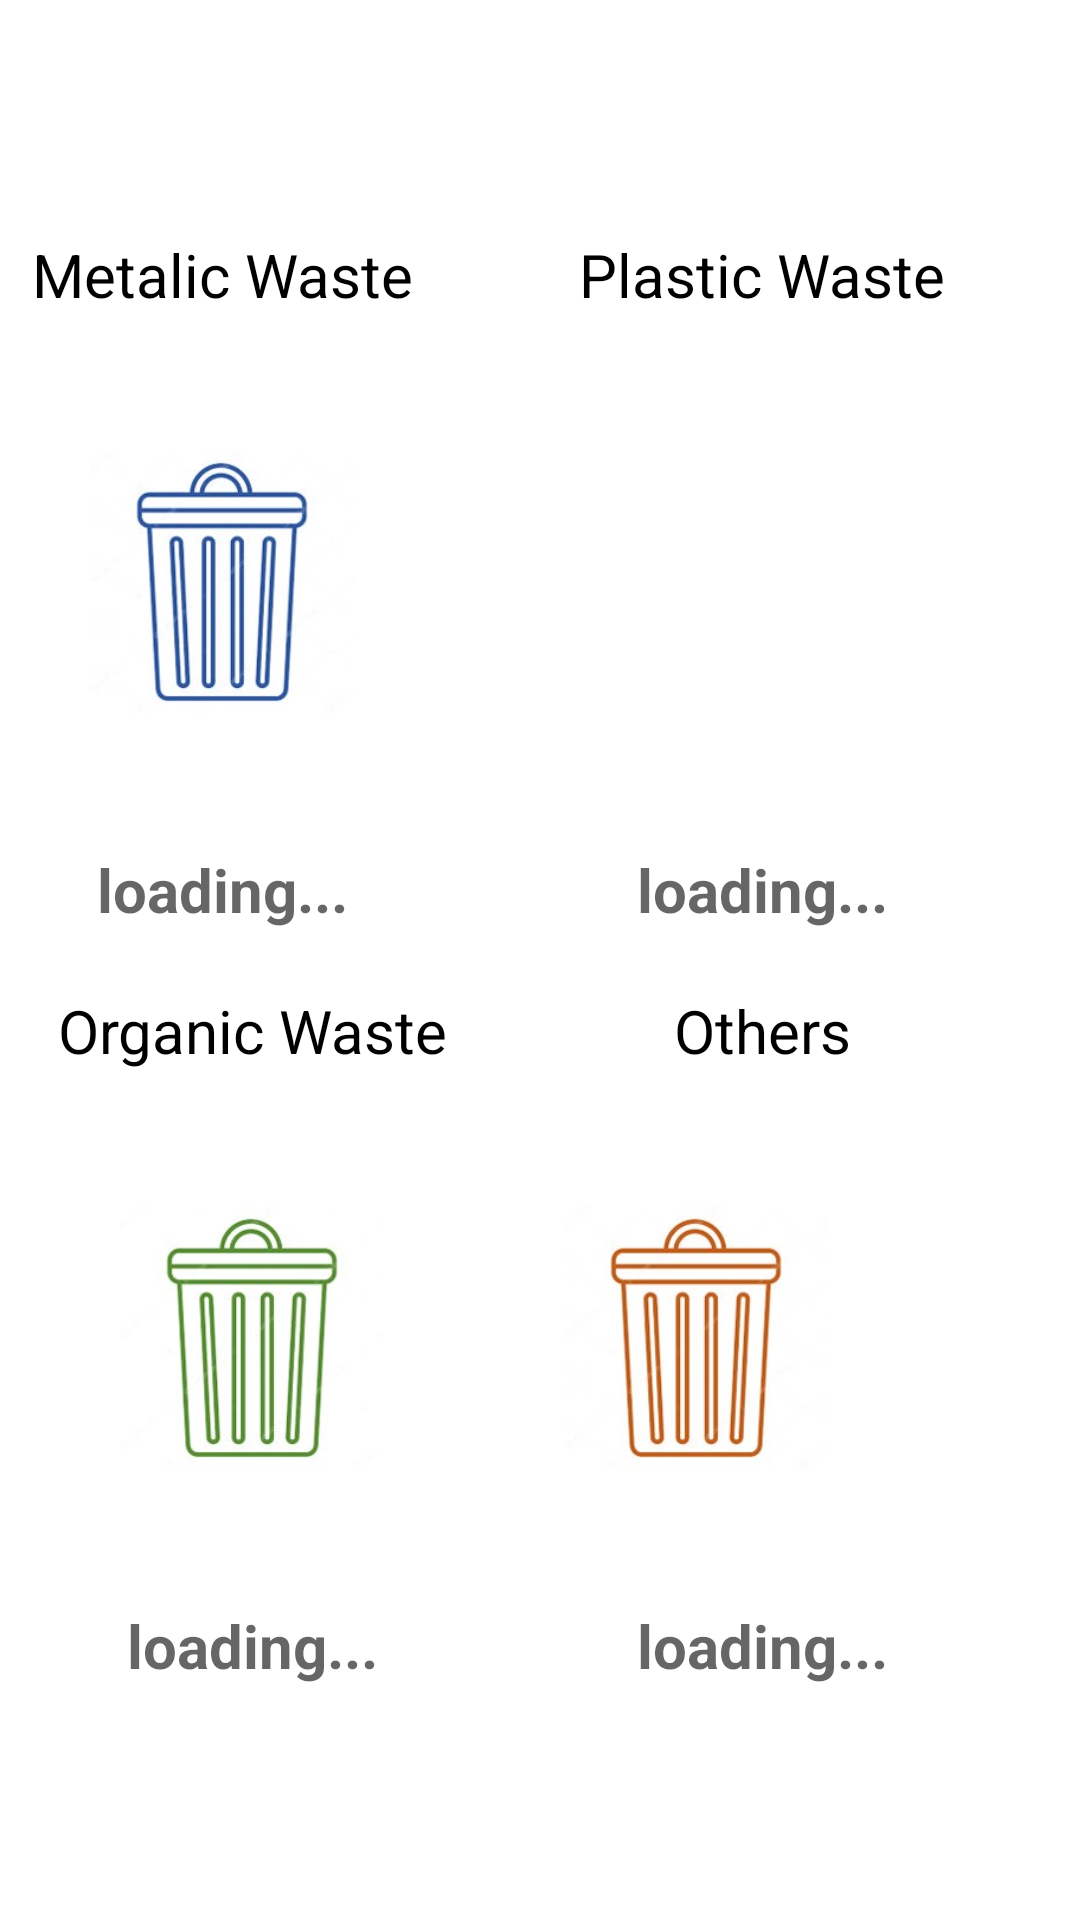

Named icons in this screenshot (1080px×1920px) and their centers, point (x, y):
otherwaste: point (696, 1338)
